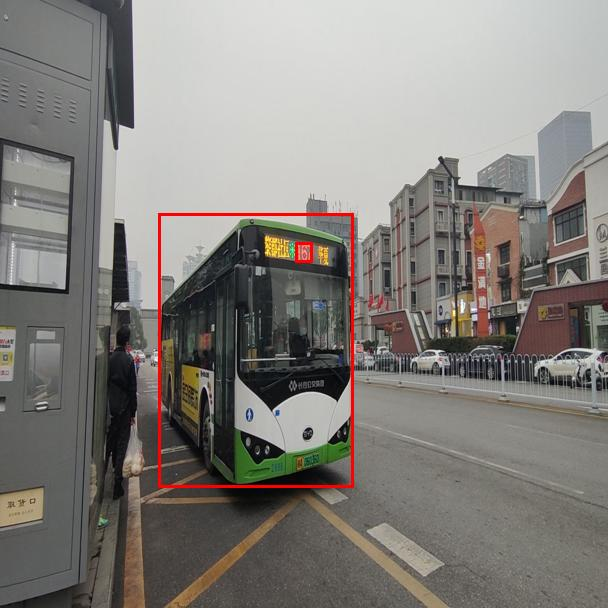bus: (158, 213, 353, 487)
screen: (295, 242, 312, 262)
